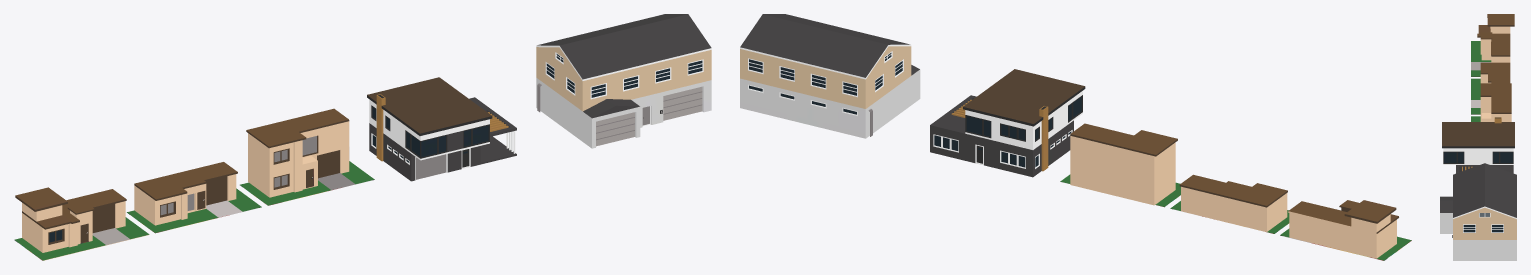
The model's file is houses.glb.
3 views of the same model, side by side, from view 1: azimuth 30°, elevation 25°; view 2: azimuth 150°, elevation 25°; view 3: azimuth 270°, elevation 25° (orthographic). The views are drawn at different scales.
Visible parts, largest first — view 1: industry-building, building-house-modern, BLDG_House_Medium_01, BLDG_House_Small_01, BLDG_House_Small_02; view 2: industry-building, building-house-modern, BLDG_House_Medium_01, BLDG_House_Small_01, BLDG_House_Small_02; view 3: industry-building, building-house-modern, BLDG_House_Small_01, BLDG_House_Medium_01, BLDG_House_Small_02.
Boxes of the visible parts, x1,y1,x2,y2 form: industry-building: [536, 14, 711, 148]; building-house-modern: [367, 77, 516, 181]; BLDG_House_Medium_01: [240, 108, 374, 205]; BLDG_House_Small_01: [14, 187, 149, 260]; BLDG_House_Small_02: [127, 162, 261, 233]; industry-building: [740, 14, 920, 138]; building-house-modern: [930, 69, 1085, 177]; BLDG_House_Medium_01: [1060, 123, 1180, 207]; BLDG_House_Small_01: [1280, 200, 1411, 260]; BLDG_House_Small_02: [1170, 174, 1289, 233]; industry-building: [1440, 163, 1516, 260]; building-house-modern: [1442, 117, 1514, 173]; BLDG_House_Small_01: [1471, 14, 1514, 76]; BLDG_House_Medium_01: [1471, 83, 1511, 121]; BLDG_House_Small_02: [1471, 62, 1510, 114].
Bounding box in the file's own units: 81.34 × 9.43 × 12.
1 material, 1 textured.
